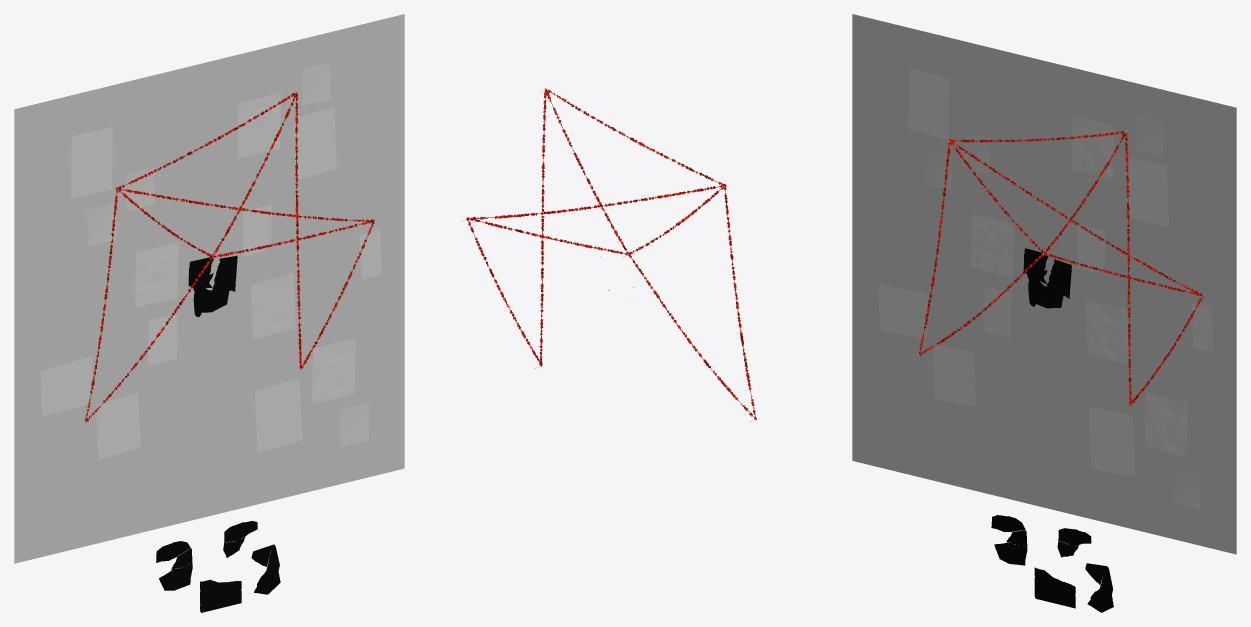
Rendered from inhrtd_scene_v7.glb.
The picture shows the model from 3 angles, left to right: view 1: azimuth 30°, elevation 25°; view 2: azimuth 150°, elevation 25°; view 3: azimuth 330°, elevation 25°; orthographic projection.
Visible parts, largest first — view 1: Board.001, Cover-BTK, Cover-TB, Cover-DN, Credits, Lyrics-BTK.001, Lyrics-TB.001, Band-Poster, Band-Previous-Site, Lyrics-DN.001, Photography-Member-Eder, Photography-Member-Diego (+10 smaller); view 2: RopeFibers.003, RopeFibers.005; view 3: Board.001, Cover-BTK, Cover-TB, Cover-DN, Lyrics-TB.001, Credits, Lyrics-BTK.001, Band-Poster, Band-Previous-Site, Lyrics-DN.001, Photography-Member-Eder, Photography-Member-Diego (+10 smaller).
Part boxes in pixels (<box>): Board.001: <box>14,14,404,563</box>; Cover-BTK: <box>255,378,302,452</box>; Cover-TB: <box>71,127,112,198</box>; Cover-DN: <box>293,107,336,179</box>; Credits: <box>251,273,295,339</box>; Lyrics-BTK.001: <box>312,338,355,403</box>; Lyrics-TB.001: <box>135,242,178,307</box>; Band-Poster: <box>96,393,140,459</box>; Band-Previous-Site: <box>40,356,93,416</box>; Lyrics-DN.001: <box>237,93,280,158</box>; Photography-Member-Eder: <box>148,314,177,365</box>; Photography-Member-Diego: <box>243,204,271,256</box>; RopeFibers.003: <box>539,91,546,365</box>; RopeFibers.005: <box>467,184,725,220</box>; Board.001: <box>852,14,1236,554</box>; Cover-BTK: <box>1088,406,1135,477</box>; Cover-TB: <box>908,68,949,139</box>; Cover-DN: <box>1127,157,1168,227</box>; Lyrics-TB.001: <box>971,212,1013,277</box>; Credits: <box>1085,300,1128,363</box>; Lyrics-BTK.001: <box>1145,392,1187,457</box>; Band-Poster: <box>932,344,976,406</box>; Band-Previous-Site: <box>878,284,929,339</box>; Lyrics-DN.001: <box>1071,115,1114,179</box>; Photography-Member-Eder: <box>983,286,1011,337</box>; Photography-Member-Diego: <box>1077,224,1105,273</box>.
Bounding box in the file's own units: 16.91 × 22.71 × 0.5317.
